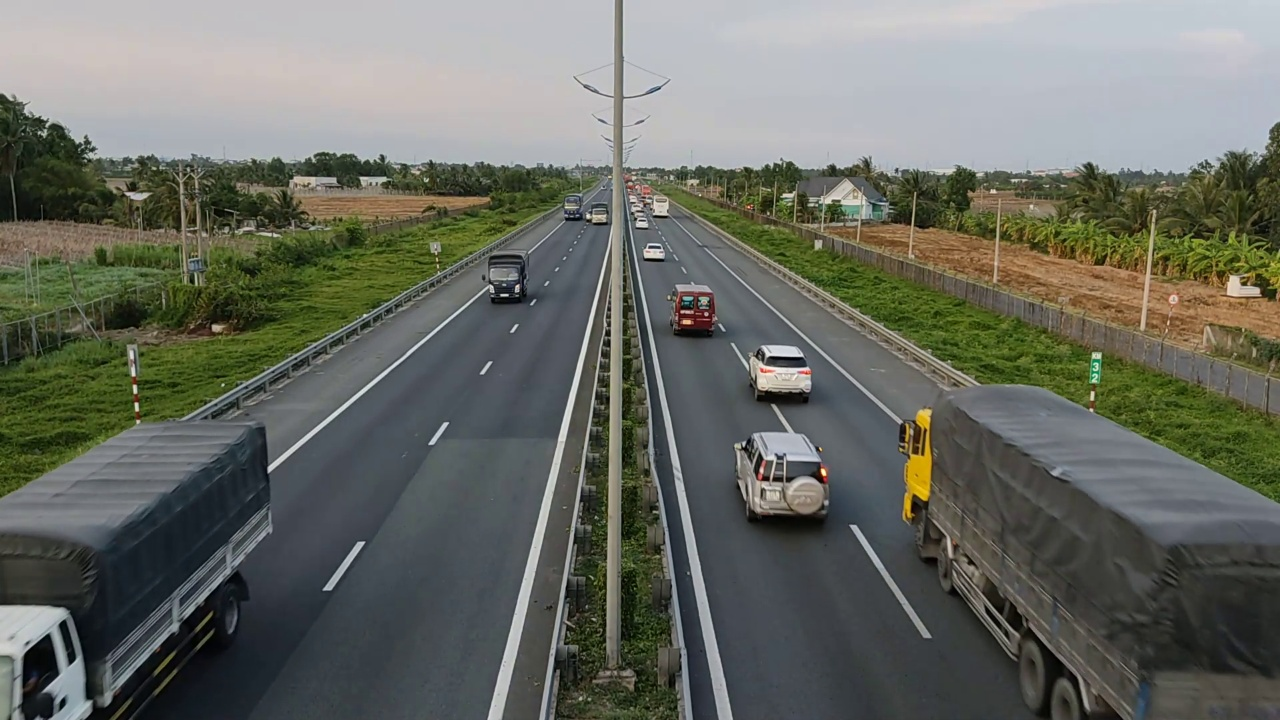car: (730, 424, 838, 526), (745, 343, 813, 403), (667, 280, 720, 341), (643, 242, 665, 261)
truck: (897, 383, 1279, 713), (0, 416, 274, 716), (480, 243, 531, 312)
